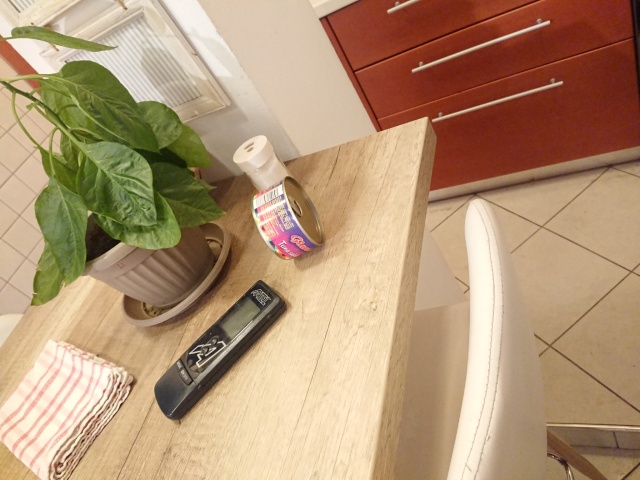Giana Tuna Salad Mexico 185g: (249, 173, 328, 265)
